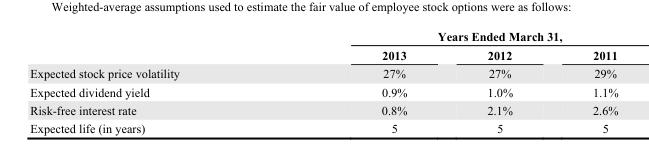table: (29, 28, 617, 134)
table column: (29, 28, 279, 134), (279, 28, 446, 134), (446, 28, 552, 134), (552, 28, 617, 134)
table column header: (29, 28, 617, 63)
table row: (29, 44, 617, 63), (29, 63, 617, 82), (29, 82, 617, 100), (29, 100, 617, 118), (29, 28, 617, 44), (29, 118, 617, 134)
table spanning cell: (279, 28, 617, 44)
